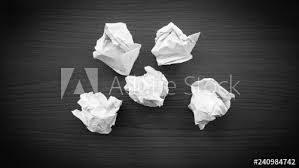crumpled paper: (190, 75, 232, 126), (73, 91, 121, 135), (96, 26, 142, 71), (124, 64, 170, 108), (154, 20, 198, 60)
